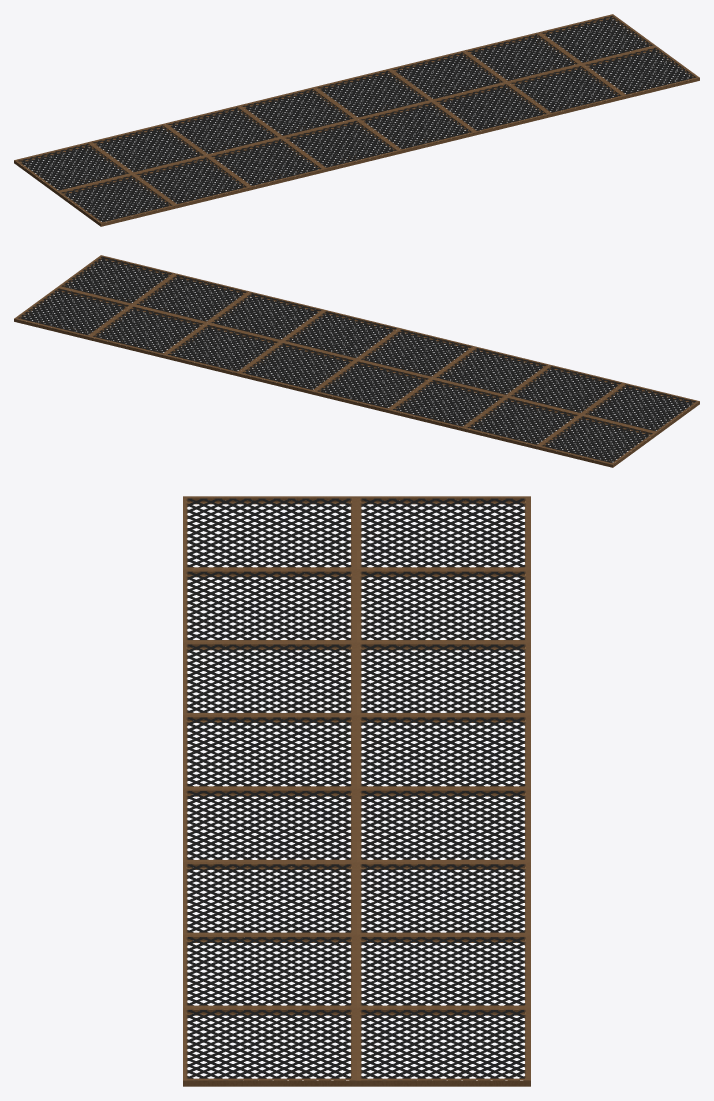
File: ironrailGroundUni.fbx
The picture shows the model from 3 angles, top to bottom: view 1: azimuth 30°, elevation 25°; view 2: azimuth 150°, elevation 25°; view 3: azimuth 270°, elevation 25°; orthographic projection. The views are drawn at different scales.
Visible parts, largest first — view 1: iron rail GroundUni; view 2: iron rail GroundUni; view 3: iron rail GroundUni.
Boxes of the visible parts, left/top/right/bottom form: iron rail GroundUni: left=14, top=14, right=699, bottom=226; iron rail GroundUni: left=14, top=255, right=699, bottom=467; iron rail GroundUni: left=183, top=496, right=530, bottom=1086.
Bounding box in the file's own units: 796 × 3.81 × 200.
